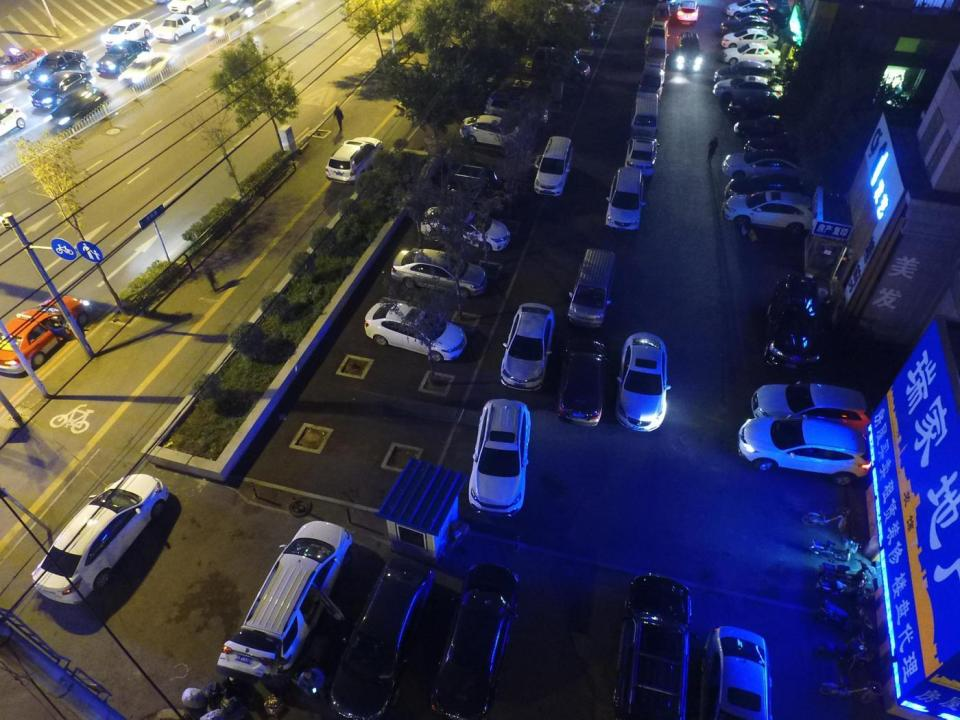car: (31, 469, 174, 615), (330, 550, 430, 716), (436, 560, 520, 720), (606, 570, 695, 720), (734, 406, 876, 488), (695, 616, 778, 720), (467, 394, 530, 517), (0, 295, 91, 378), (748, 378, 876, 436), (364, 295, 465, 361), (612, 332, 670, 436), (763, 274, 826, 364), (389, 248, 489, 296), (501, 296, 547, 400), (420, 206, 508, 250), (562, 337, 601, 431), (722, 192, 815, 231), (720, 173, 821, 206), (53, 84, 114, 134), (325, 137, 384, 187), (442, 160, 513, 201), (459, 114, 526, 156), (30, 70, 96, 107), (724, 151, 808, 180), (732, 114, 812, 144), (746, 135, 825, 165), (609, 166, 644, 233), (29, 48, 88, 86), (714, 60, 784, 90), (728, 90, 794, 120), (116, 51, 172, 86), (100, 16, 154, 52), (0, 44, 50, 81), (98, 39, 147, 76), (202, 4, 251, 41), (715, 78, 787, 102), (155, 11, 204, 45), (722, 43, 785, 67), (721, 27, 782, 51), (533, 20, 598, 42), (630, 133, 659, 179), (720, 15, 779, 34), (722, 0, 781, 17), (640, 63, 668, 97), (735, 8, 785, 24), (645, 18, 672, 47), (675, 0, 704, 25), (554, 0, 601, 14), (652, 1, 672, 20)
van: (215, 518, 351, 682), (565, 246, 616, 329), (484, 89, 551, 130), (532, 138, 574, 197), (531, 40, 592, 78), (633, 90, 662, 136), (673, 35, 705, 76), (646, 38, 671, 75)
